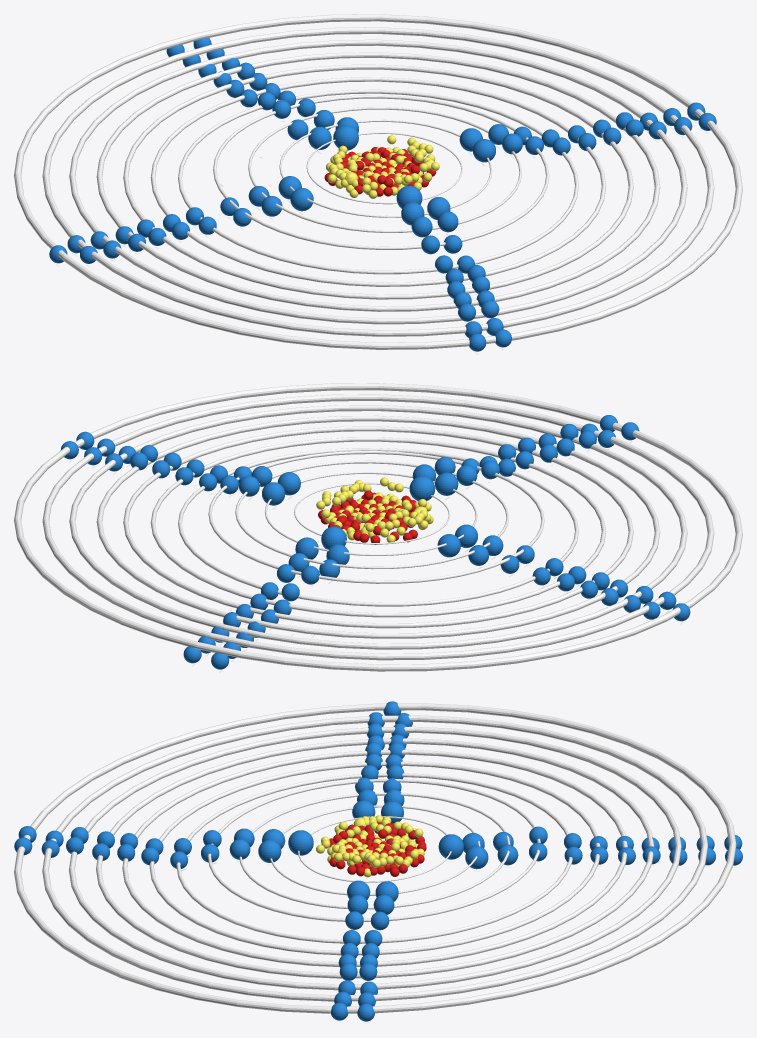
3 views of the same model, one above another, from view 1: azimuth 30°, elevation 25°; view 2: azimuth 150°, elevation 25°; view 3: azimuth 270°, elevation 25° (orthographic).
Visible parts, largest first — view 1: Torus.011, Torus.010, Torus.009, Torus.008, Torus.007, Torus.006, Torus.005, Torus.004, Torus.003, Torus.002, Torus.001; view 2: Torus.011, Torus.010, Torus.009, Torus.008, Torus.007, Torus.006, Torus.005, Torus.004, Torus.003, Torus.002, Torus.001, g.001; view 3: Torus.011, Torus.010, Torus.009, Torus.008, Torus.007, Torus.006, Torus.005, Torus.004, Torus.003, Torus.002, Torus.001, g.001.
Part boxes in pixels (box(x1,y1,x2,y2)): Torus.011: box(14, 14, 742, 349); Torus.010: box(42, 27, 714, 336); Torus.009: box(69, 39, 687, 324); Torus.008: box(96, 52, 660, 311); Torus.007: box(123, 64, 633, 299); Torus.006: box(150, 77, 606, 286); Torus.005: box(178, 89, 578, 274); Torus.004: box(213, 95, 549, 249); Torus.003: box(248, 107, 521, 232); Torus.002: box(279, 119, 492, 217); Torus.001: box(306, 132, 462, 204); Torus.011: box(14, 383, 742, 671); Torus.010: box(42, 394, 714, 660); Torus.009: box(69, 405, 687, 649); Torus.008: box(96, 415, 660, 638); Torus.007: box(123, 426, 633, 628); Torus.006: box(150, 437, 606, 617); Torus.005: box(178, 448, 578, 606); Torus.004: box(208, 450, 544, 583); Torus.003: box(235, 460, 508, 569); Torus.002: box(265, 472, 477, 555); Torus.001: box(294, 482, 450, 544); g.001: box(409, 476, 435, 500); Torus.011: box(14, 703, 736, 1013); Torus.010: box(42, 715, 707, 1001); Torus.009: box(69, 726, 681, 990); Torus.008: box(96, 738, 654, 978); Torus.007: box(122, 749, 627, 966); Torus.006: box(149, 761, 600, 955); Torus.005: box(176, 773, 572, 943); Torus.004: box(208, 779, 540, 921); Torus.003: box(239, 792, 510, 909); Torus.002: box(270, 805, 480, 895); Torus.001: box(298, 816, 451, 882); g.001: box(288, 830, 313, 855).
Bounding box in the file's own units: 28.44 × 2.85 × 28.28.
